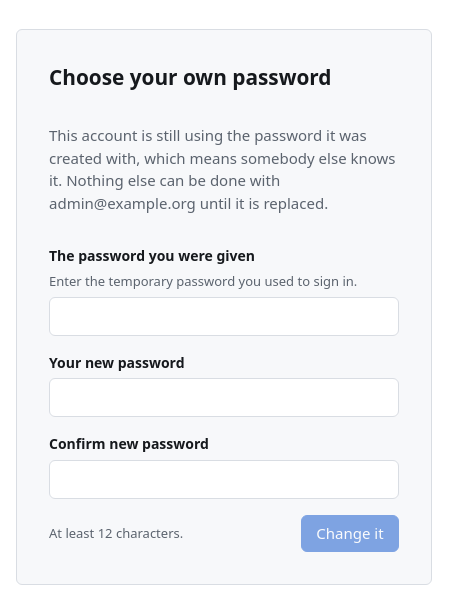
it: an account still on the password it was given › requires the temporary password and matching new passwords before submitting
Expected: the button "Change it" is disabled, [301,515,399,552]
Step 1. Type "one-they-chose-12" into the password field labelled "Your new password" → [224, 398], box [49,378,399,417]
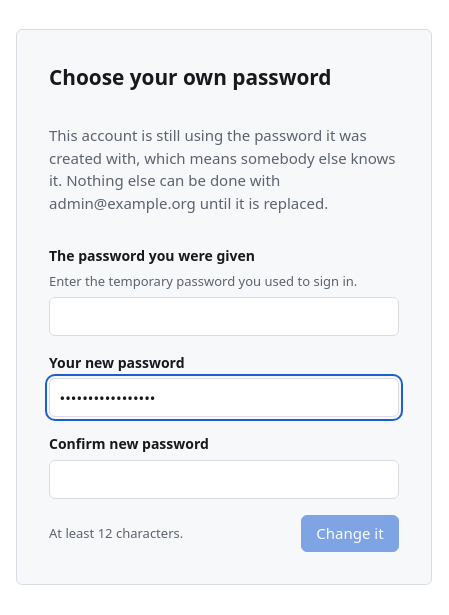
Step 2. Type "different-password" into the password field labelled "Confirm new password" → [224, 479], box [49,460,399,499]
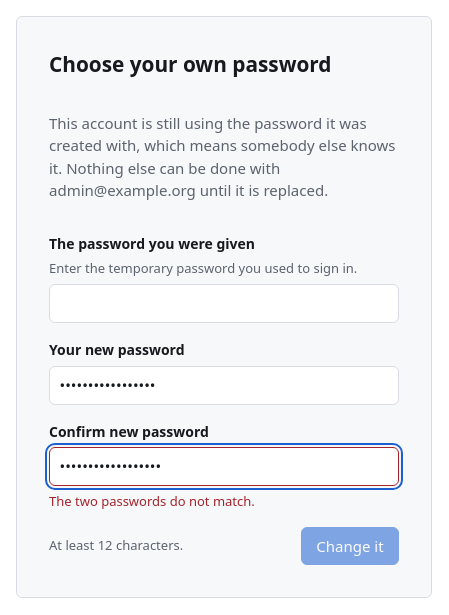
Expected: the button "Change it" is disabled, [301,527,399,565]
Expected: the text "The two passwords do not match." is shown, [49,492,255,510]
Step 3. Clear the password field labelled "Confirm new password" → [224, 467], box [49,447,399,486]
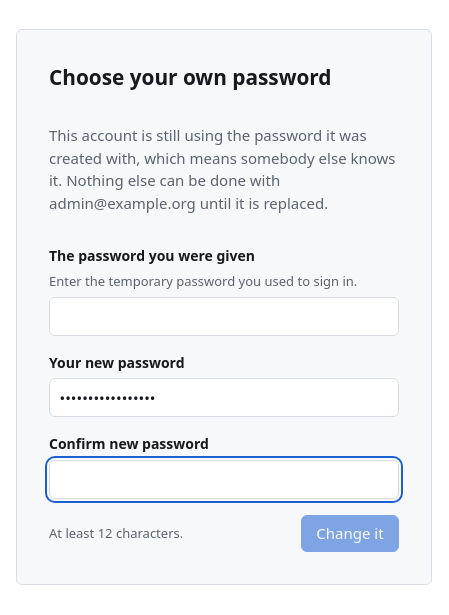
Step 4. Type "one-they-chose-12" into the password field labelled "Confirm new password" → [224, 479], box [49,460,399,499]
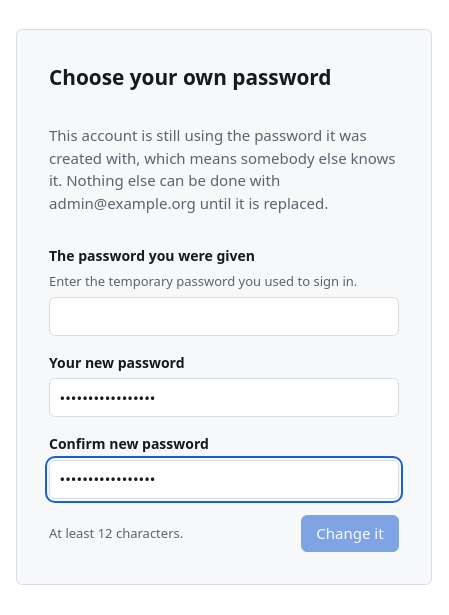
Expected: the button "Change it" is disabled, [301,515,399,552]
Step 5. Type "given-one" into the password field labelled "The password you were given" → [224, 316], box [49,297,399,336]
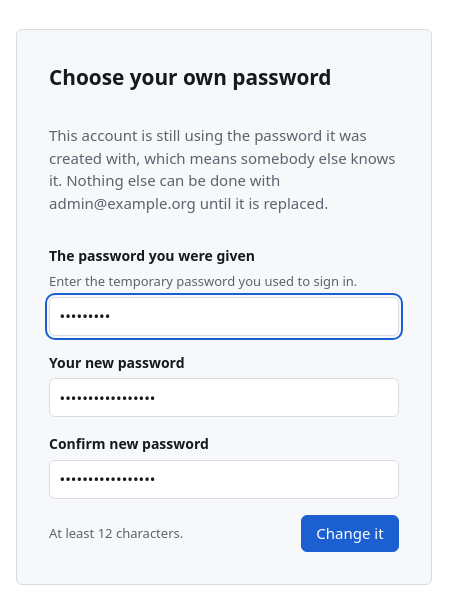
Expected: the button "Change it" is enabled, [301,515,399,552]
